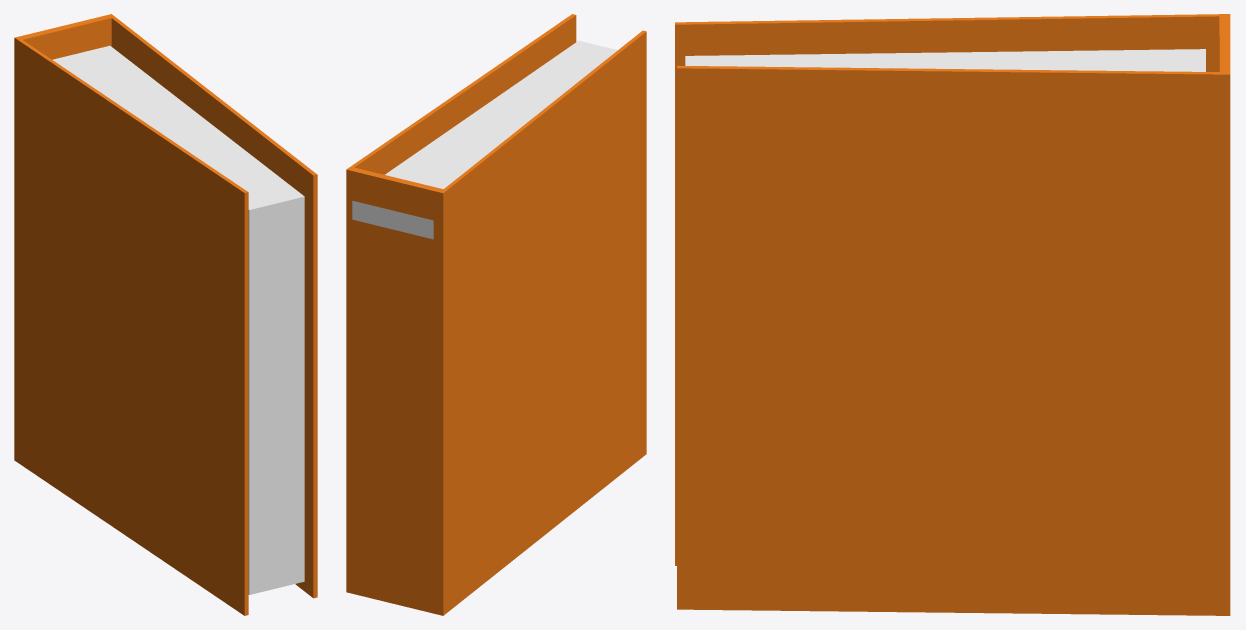
The model's file is Binder_Orange.FBX.
3 views of the same model, side by side, from view 1: azimuth 30°, elevation 25°; view 2: azimuth 150°, elevation 25°; view 3: azimuth 270°, elevation 25° (orthographic). The views are drawn at different scales.
Visible parts, largest first — view 1: Binder_Orange; view 2: Binder_Orange; view 3: Binder_Orange.
Part boxes in pixels (x1=…): Binder_Orange: x1=14, y1=14, x2=317, y2=615; Binder_Orange: x1=346, y1=14, x2=646, y2=615; Binder_Orange: x1=675, y1=14, x2=1230, y2=615.
Bounding box in the file's own units: 0.1386 × 0.5764 × 0.5375.
